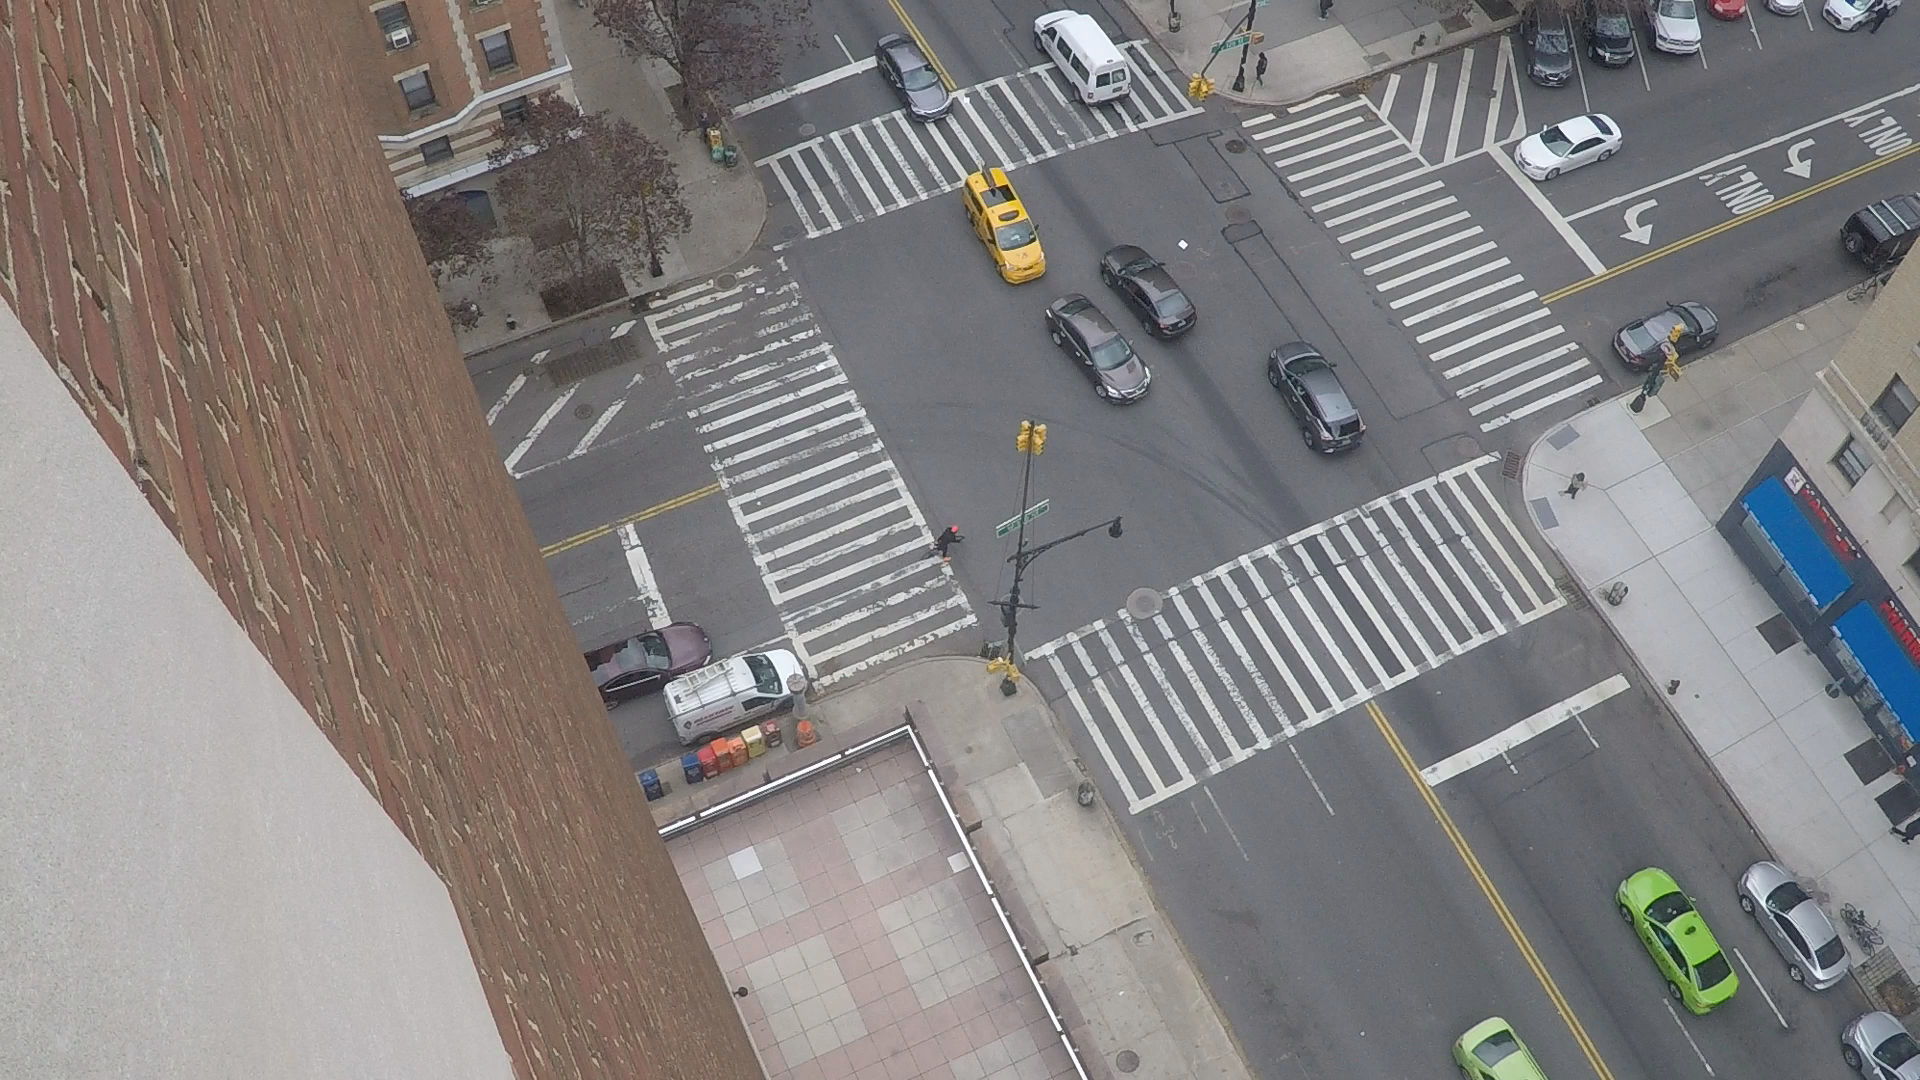Car: (1634, 0, 1642, 16), (878, 68, 882, 75), (1761, 0, 1764, 5), (1704, 0, 1705, 7)
Pedestrian: (1319, 0, 1320, 9)
